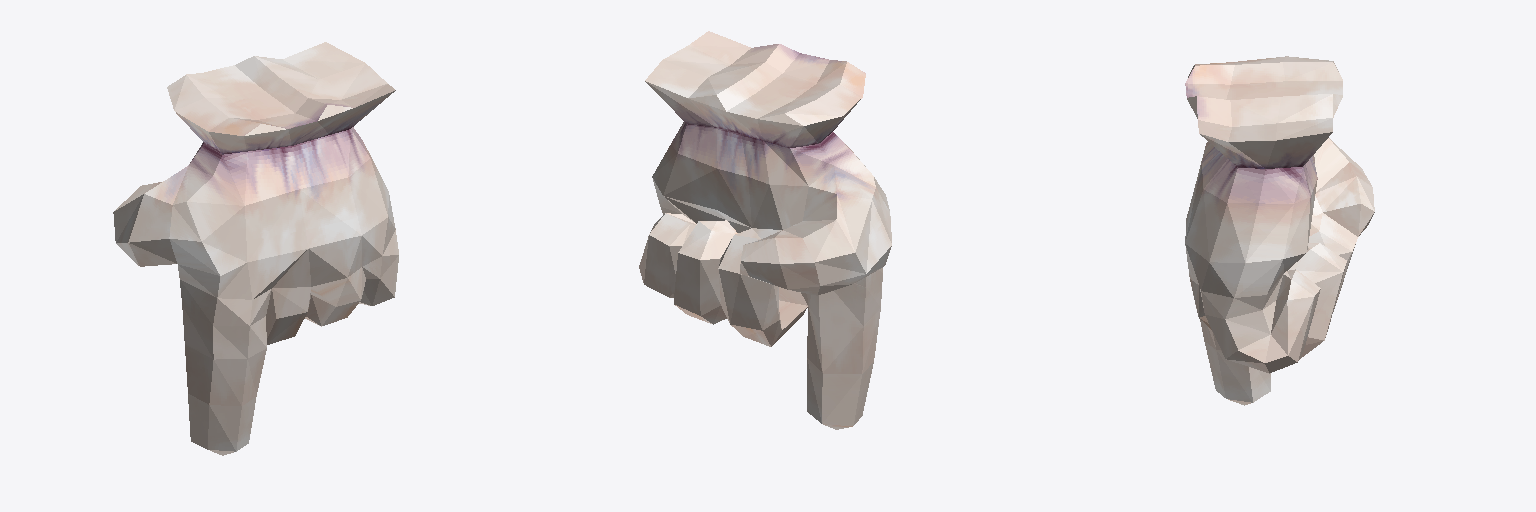
3 views of the same model, side by side, from view 1: azimuth 30°, elevation 25°; view 2: azimuth 150°, elevation 25°; view 3: azimuth 270°, elevation 25° (orthographic).
Visible parts, largest first — view 1: obj_glove; view 2: obj_glove; view 3: obj_glove.
Part boxes in pixels (bbox=[...]): obj_glove: bbox=[113, 42, 398, 455]; obj_glove: bbox=[639, 31, 891, 429]; obj_glove: bbox=[1185, 56, 1374, 405].
Bounding box in the file's own units: 0.4934 × 0.6535 × 0.322.
1 materials, 1 textured.